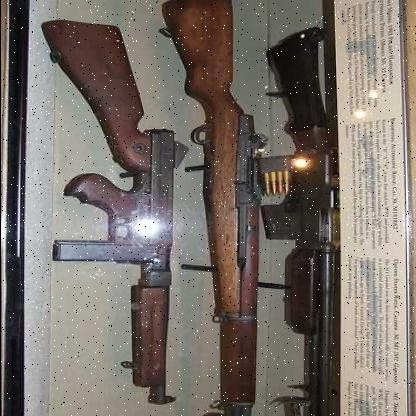rifle: (30, 17, 186, 414), (140, 0, 286, 415), (268, 23, 341, 415)
